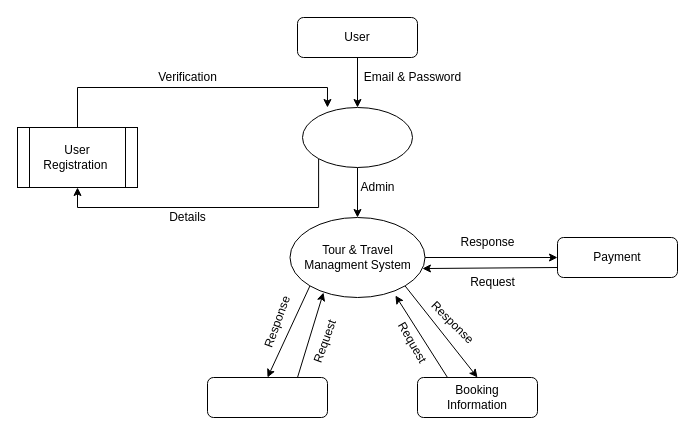
Some shapes in this 695 by 443 pixel diagram are drawn without their labels. Each missing label, with the box of its shape:
Login: (302, 106, 412, 168)
Review & Feedback: (206, 376, 328, 418)
